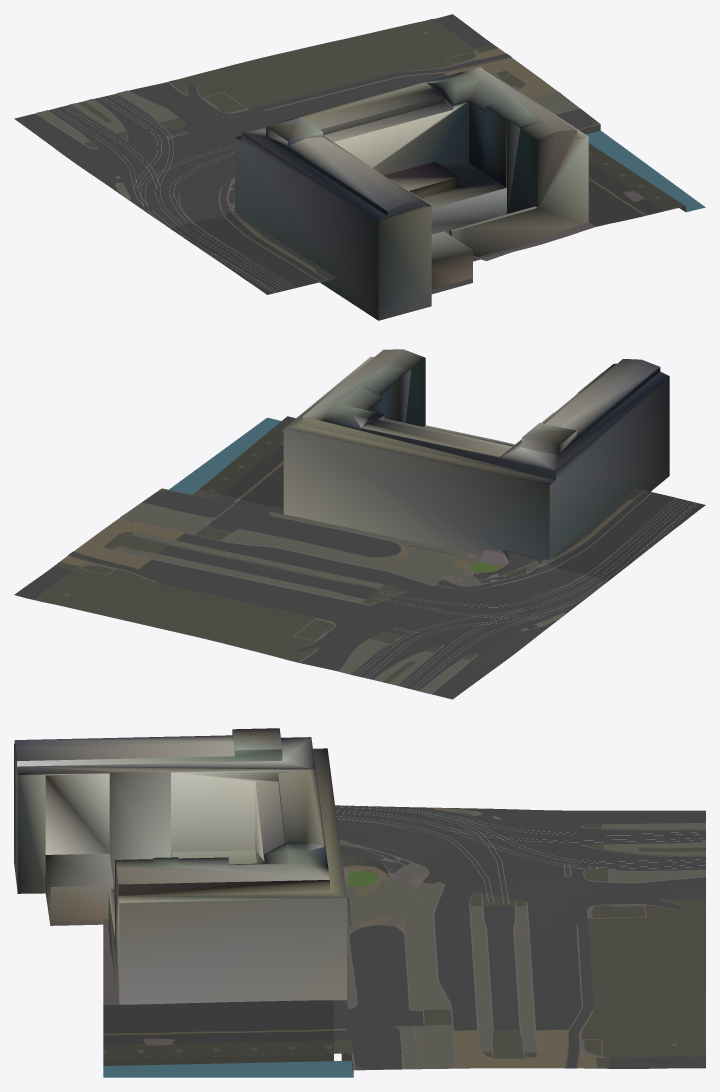
3 views of the same model, one above another, from view 1: azimuth 30°, elevation 25°; view 2: azimuth 150°, elevation 25°; view 3: azimuth 270°, elevation 25° (orthographic). The views are drawn at different scales.
Visible parts, largest first — view 1: c_m01_m08, append:c_m01_m08; view 2: c_m01_m08, append:c_m01_m08; view 3: c_m01_m08, append:c_m01_m08.
Boxes of the visible parts, <box> form: c_m01_m08: <box>53,67,705,320</box>; append:c_m01_m08: <box>14,14,600,228</box>; c_m01_m08: <box>169,349,705,689</box>; append:c_m01_m08: <box>14,488,608,699</box>; c_m01_m08: <box>14,728,705,1077</box>; append:c_m01_m08: <box>334,805,705,1070</box>.
Bounding box in the file's own units: 128 × 34.22 × 147.
